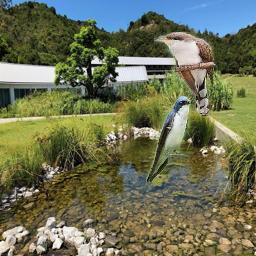Cuckoo: (154, 32, 214, 116)
Swallow: (147, 96, 192, 182)
